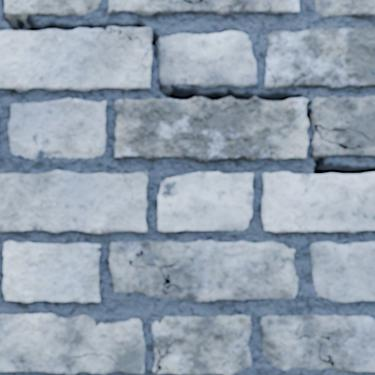brick: (115, 98, 307, 161), (109, 241, 297, 300), (0, 29, 151, 91), (0, 171, 146, 233), (0, 314, 145, 374), (265, 27, 374, 88), (262, 173, 374, 231), (261, 315, 374, 371), (3, 242, 99, 302), (9, 99, 105, 158), (153, 316, 250, 374), (158, 173, 252, 231), (160, 32, 255, 87), (310, 242, 374, 301), (312, 97, 374, 155), (109, 0, 298, 15), (6, 0, 99, 15), (315, 0, 374, 16), (154, 346, 157, 363)
crack: (2, 0, 372, 152), (283, 323, 335, 366), (311, 152, 374, 175), (153, 338, 177, 374), (291, 60, 314, 86), (123, 175, 133, 208), (266, 67, 277, 85), (182, 0, 209, 6), (95, 243, 100, 253), (142, 171, 148, 177)
